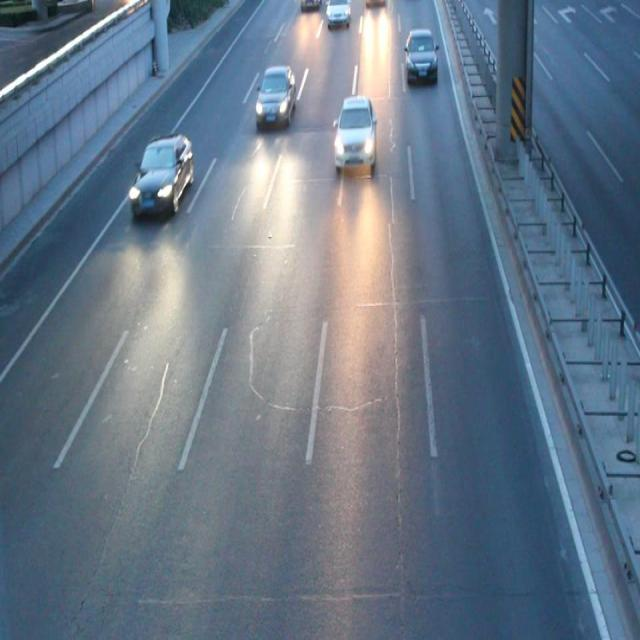car: (130, 133, 193, 213), (332, 96, 377, 171), (255, 65, 296, 128), (403, 29, 438, 82), (326, 1, 350, 26)
